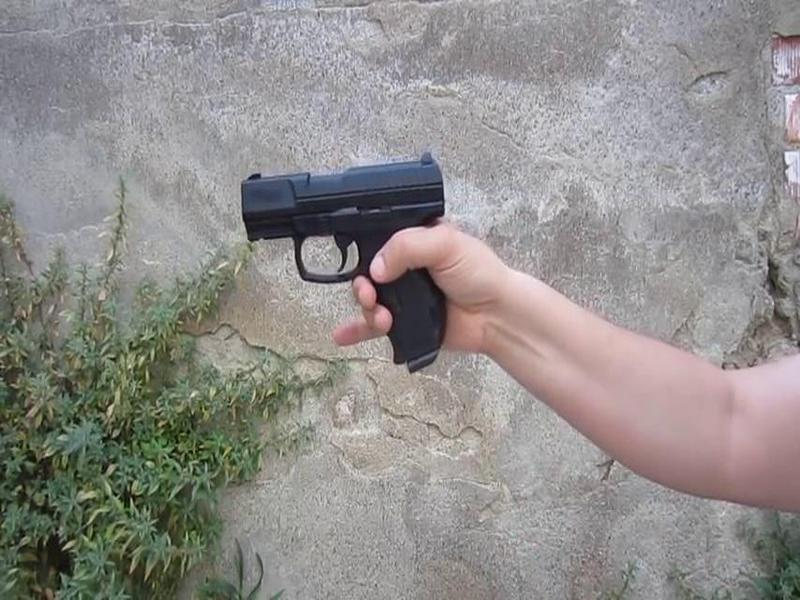Pistola: (219, 159, 467, 383)
